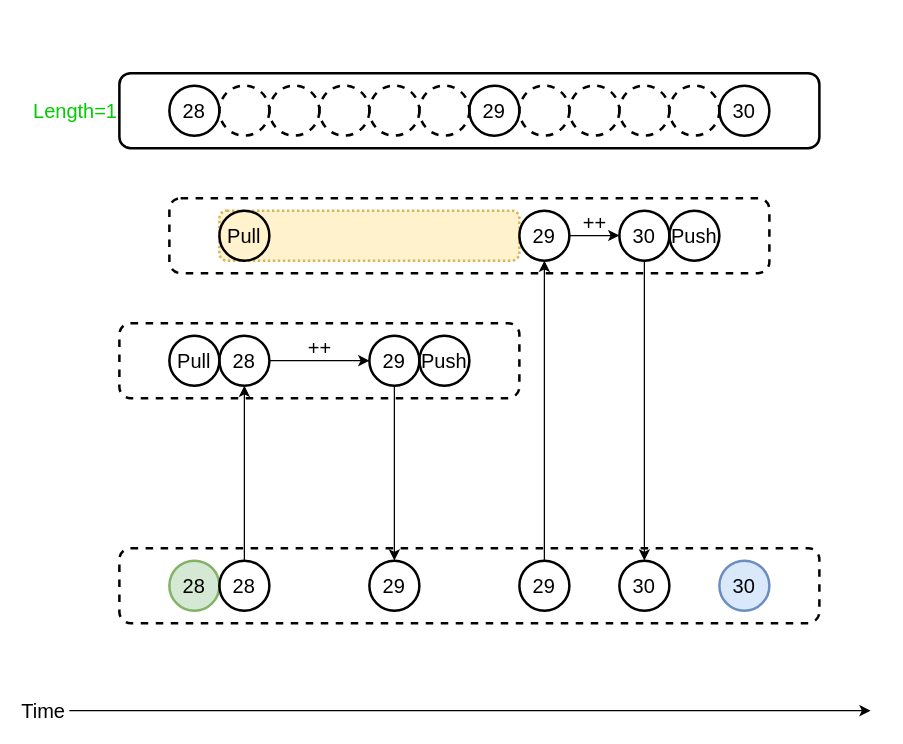
This 903x744 diagram has some shape labels left out. The box of each missing label's shape, as (x1, y1, x2, y2) in pixels:
Channel: (118, 71, 820, 149)
goroutine1: (118, 321, 520, 399)
goroutine2: (168, 196, 770, 274)
total: (118, 546, 820, 624)
Wait: (218, 209, 520, 261)
